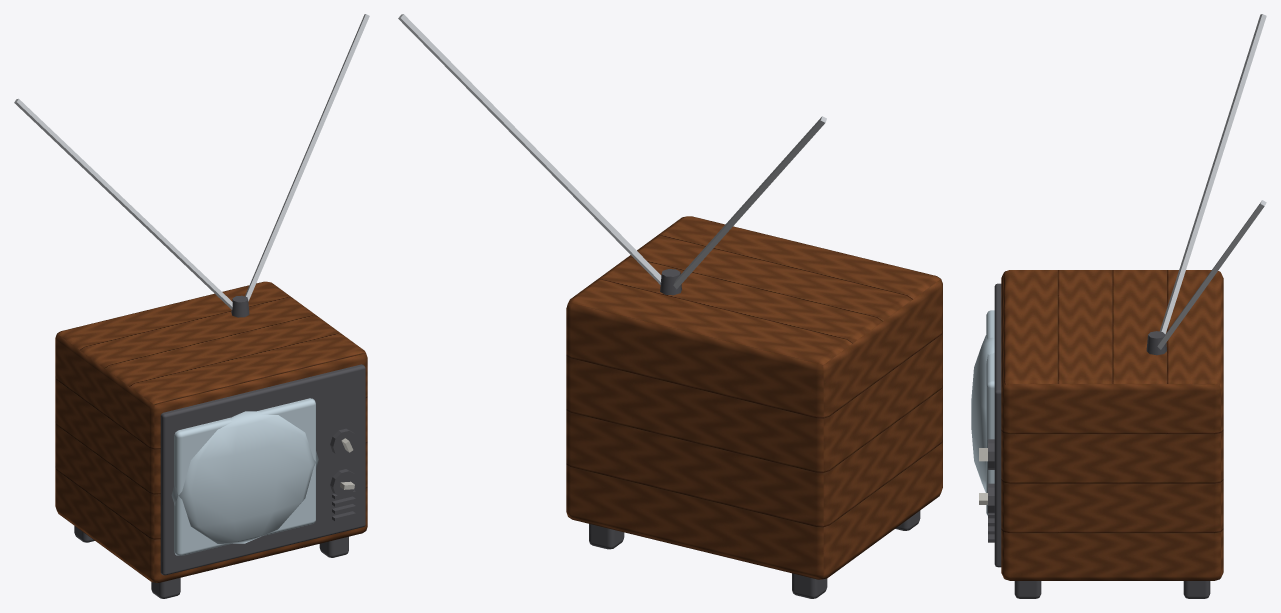
3 views of the same model, side by side, from view 1: azimuth 30°, elevation 25°; view 2: azimuth 150°, elevation 25°; view 3: azimuth 270°, elevation 25° (orthographic). The views are drawn at different scales.
Visible parts, largest first — view 1: crt-television; view 2: crt-television; view 3: crt-television.
Boxes of the visible parts, <box> form: crt-television: <box>14,14,369,598</box>; crt-television: <box>398,14,942,598</box>; crt-television: <box>971,14,1266,598</box>.
Bounding box in the file's own units: 1.01 × 1.17 × 0.6648.
Materials: 5 (2 with a texture image).
